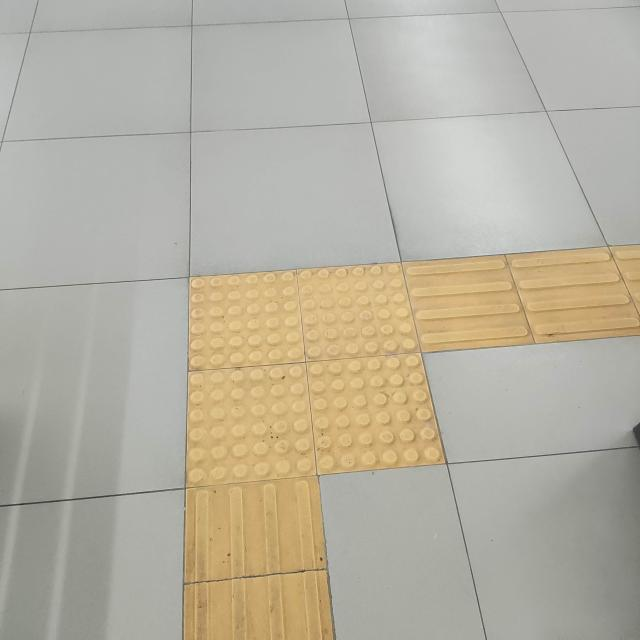kanan: (103, 224, 640, 552)
